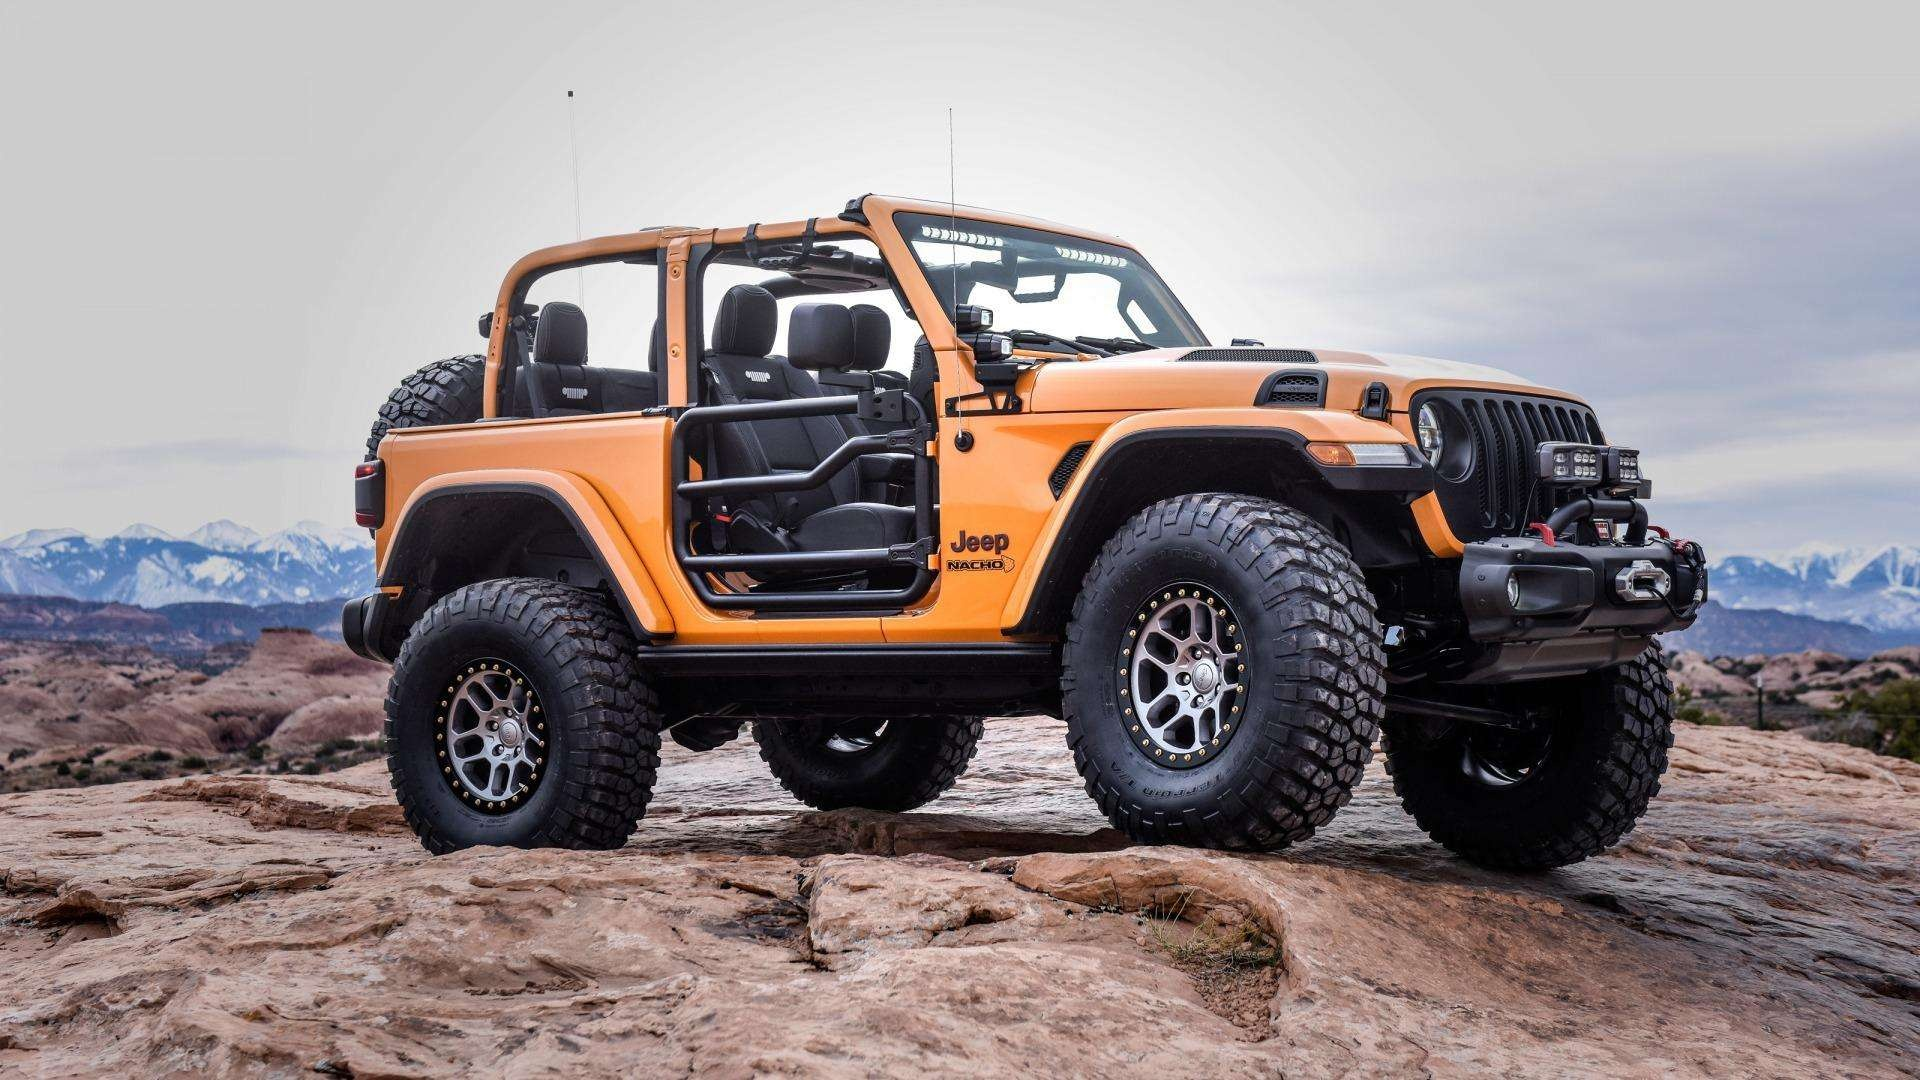jeep: (348, 165, 1725, 887)
